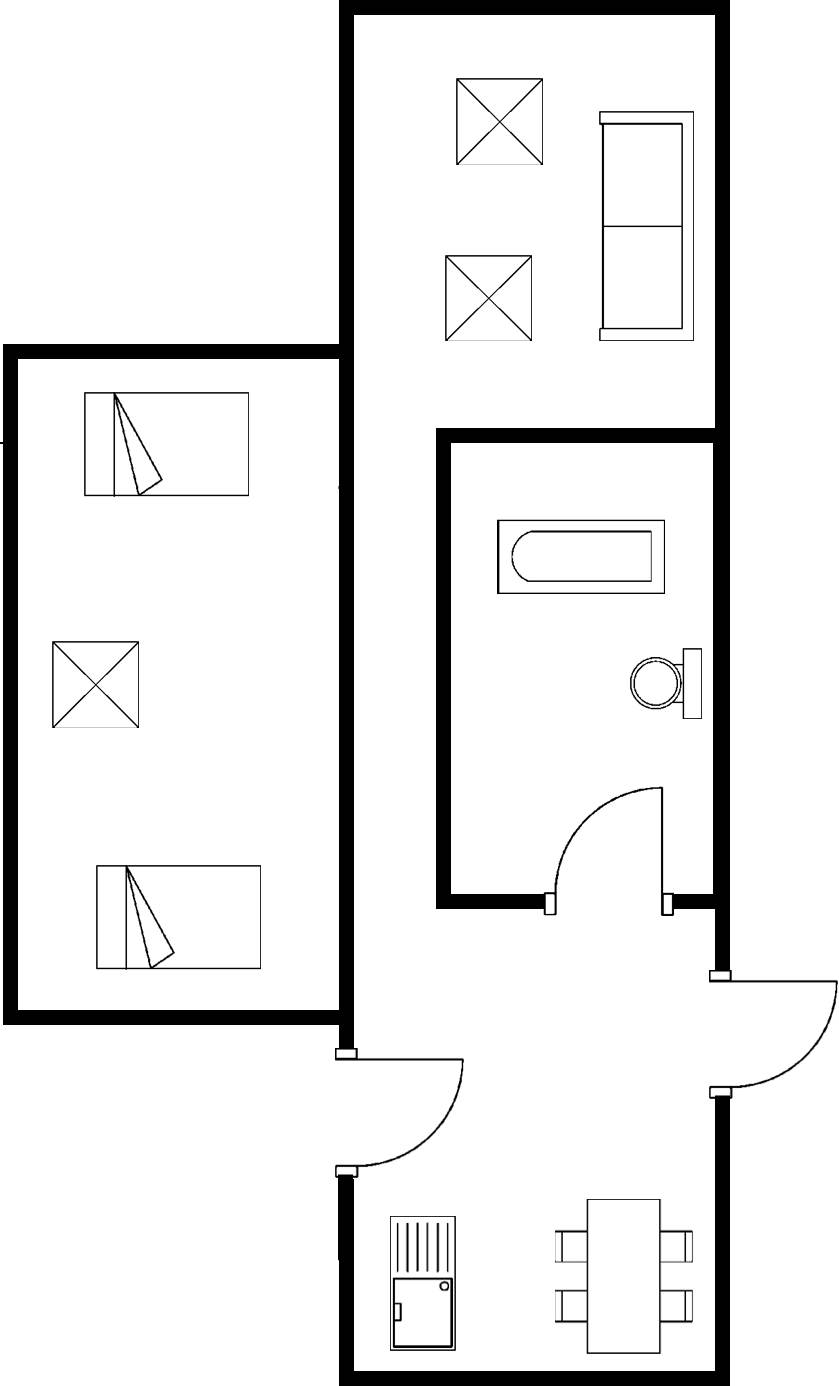bed: (86, 856, 268, 979), (76, 386, 260, 504)
coffee_table: (446, 69, 549, 171), (437, 249, 541, 348), (46, 633, 145, 734)
dining_table: (541, 1186, 699, 1360)
large_sink: (626, 644, 710, 727)
large_sofa: (594, 104, 702, 349)
sink: (382, 1209, 460, 1360)
tub: (490, 513, 675, 602)
